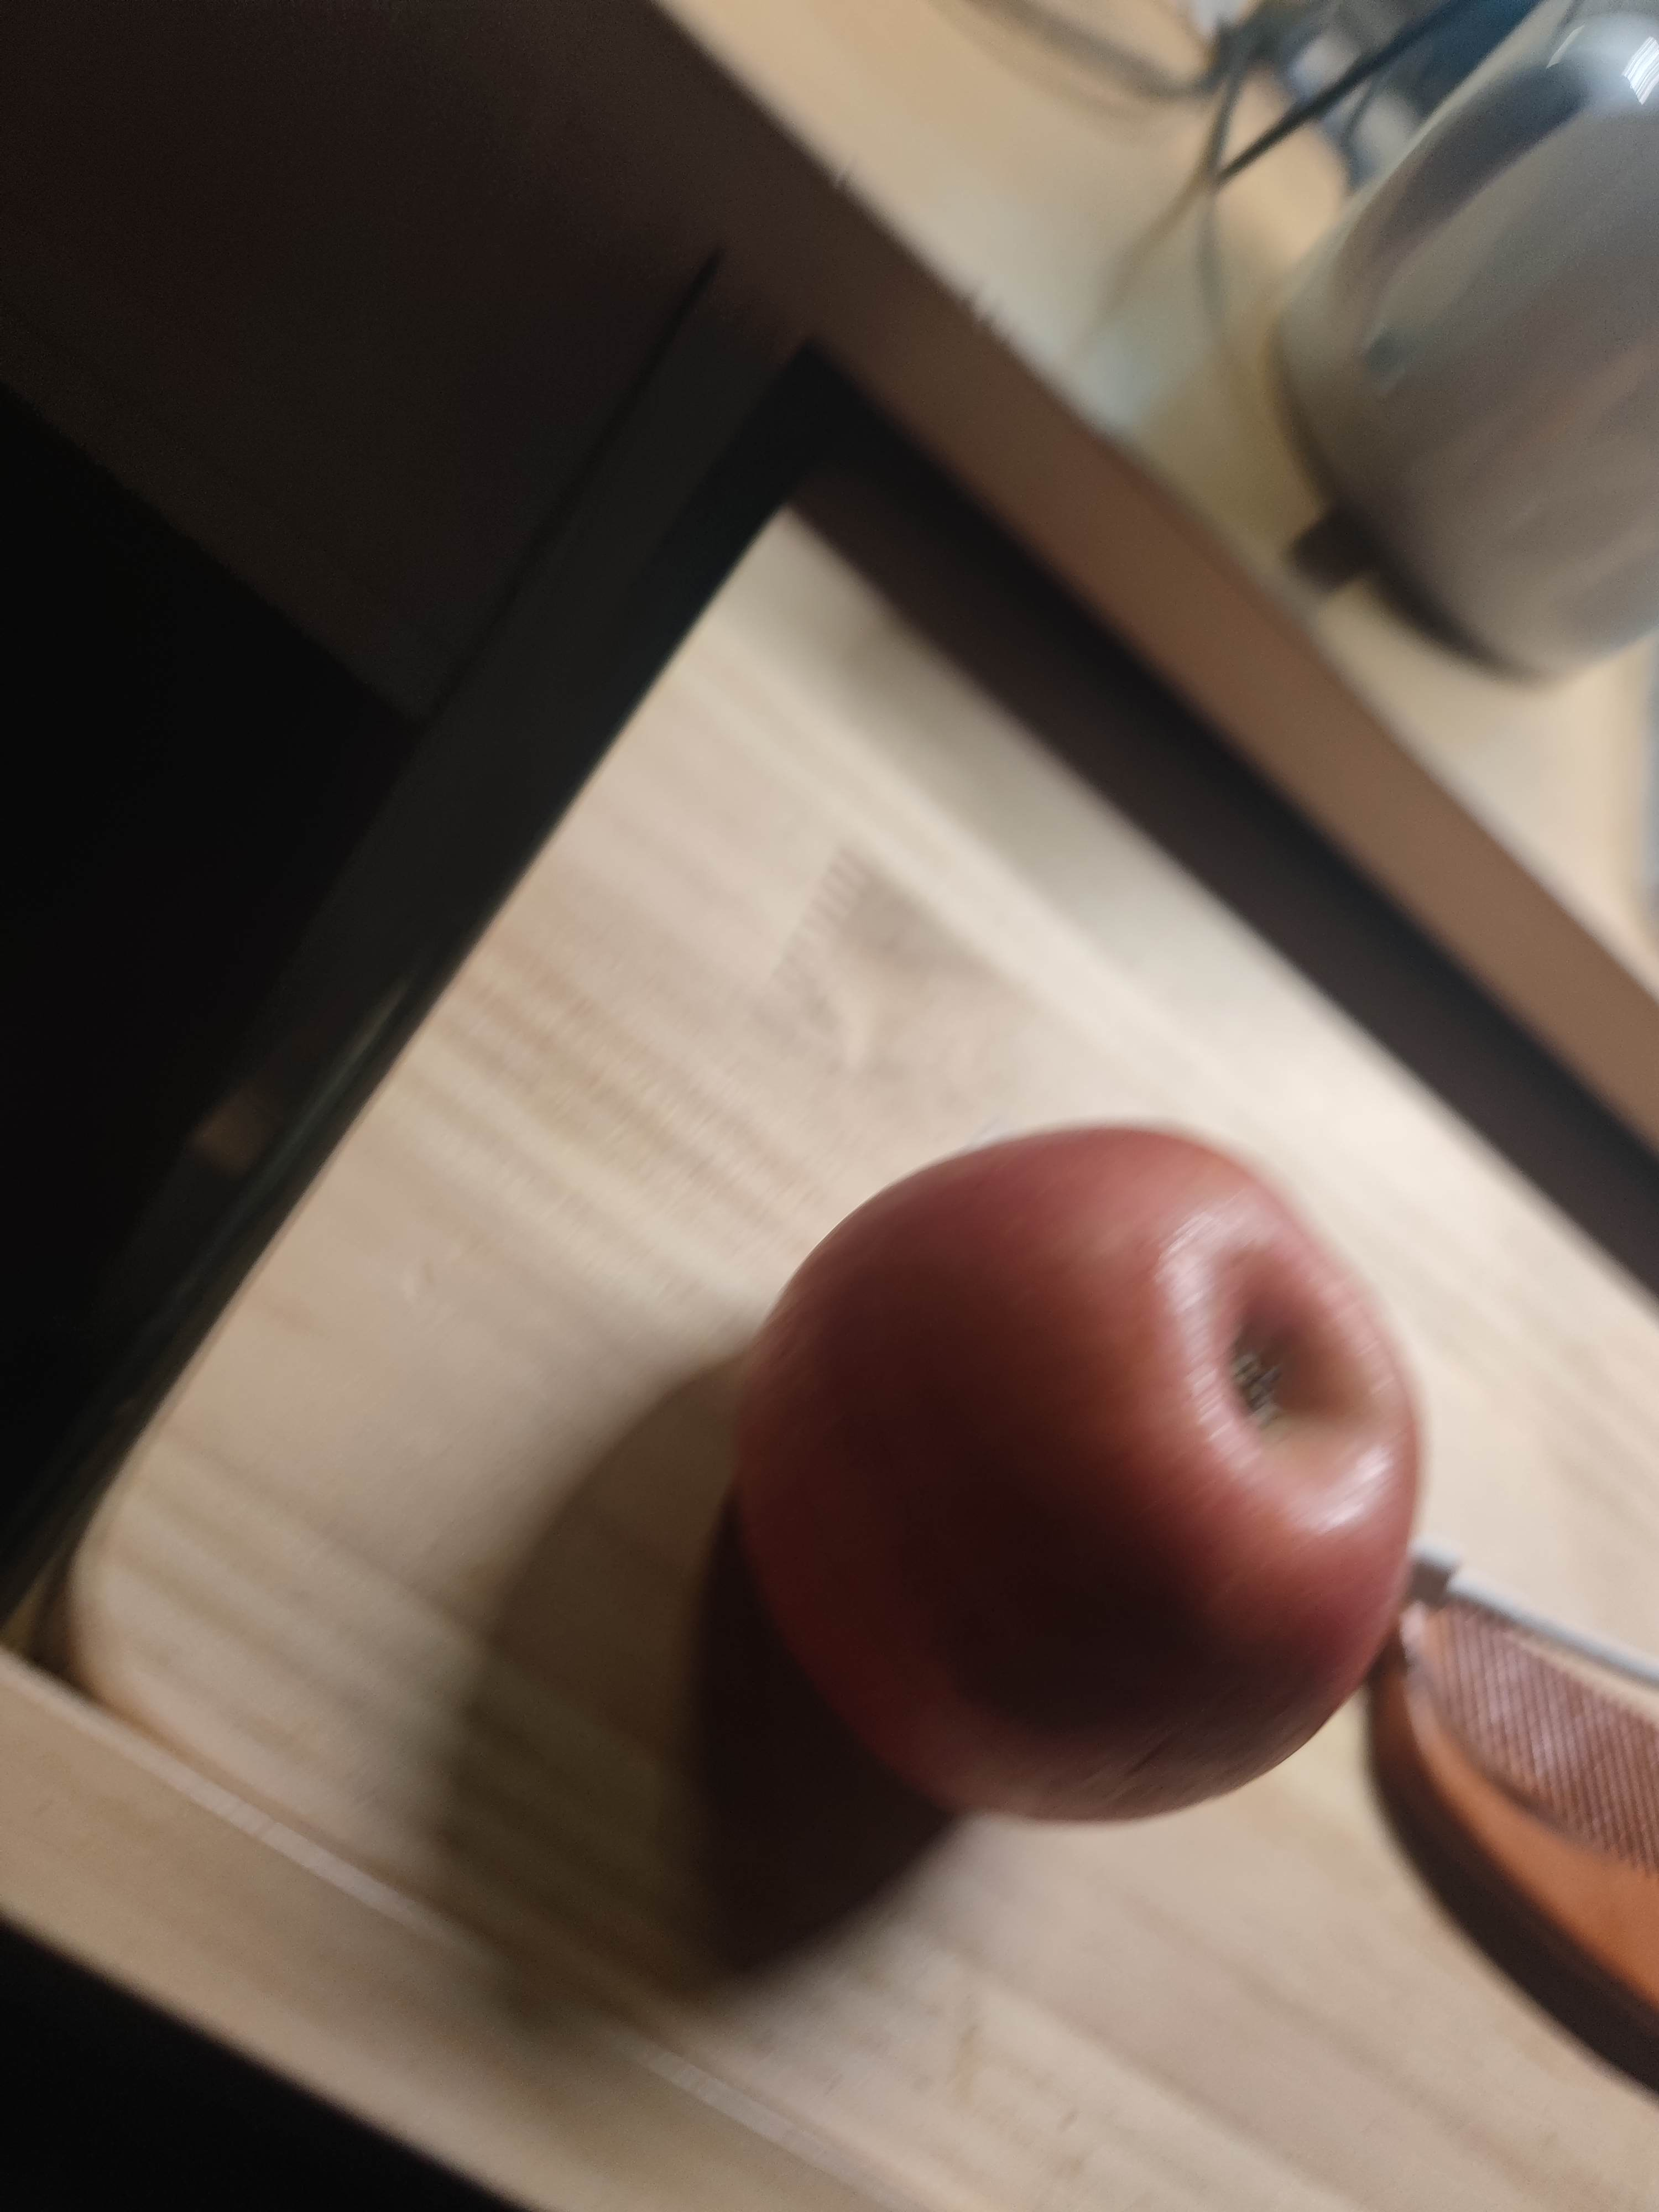apple: (734, 1120, 1431, 1822)
